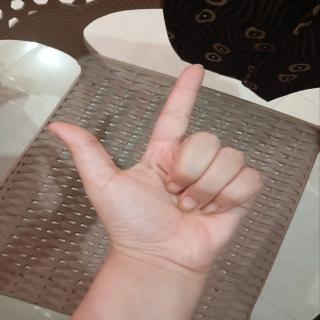LAAM: (44, 46, 272, 283)
